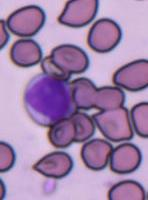L: (23, 73, 75, 125)
